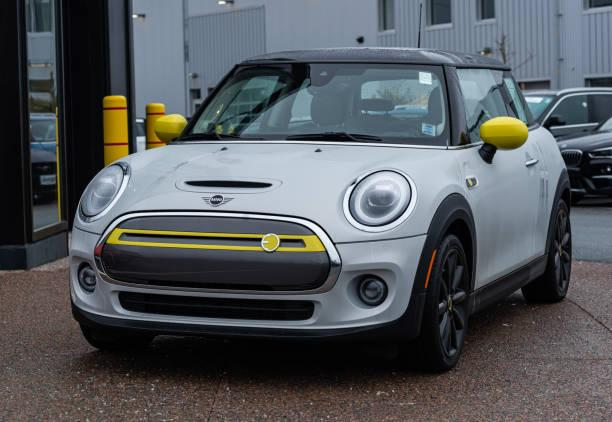mini: (192, 186, 249, 221)
